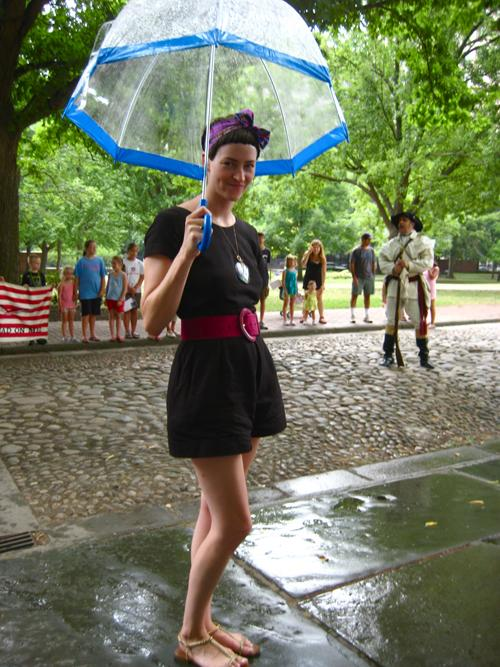person: (140, 111, 288, 667)
